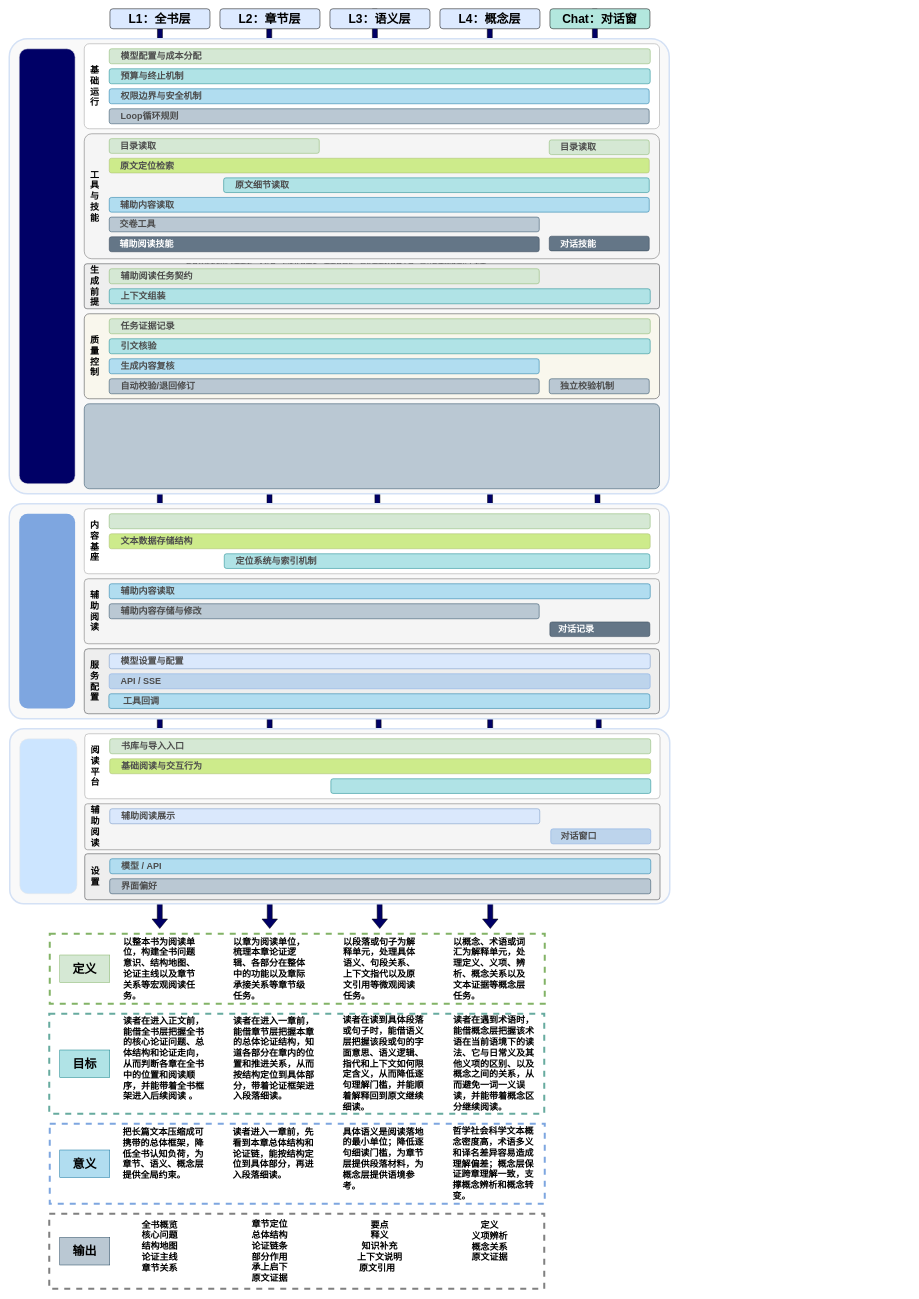
Some shapes in this 919 by 1299 pixel diagram are drawn without their labels. The shapes that lost their labels are listed below. From the top down, each one's centre as x and y in pixels, then its label:
the point at 47,266: Agent 智能体
the point at 372,446: 记忆机制
the point at 379,521: 导入与预处理
the point at 47,611: Server 服务器
the point at 490,785: 原文交互
the point at 48,816: Frontend 前端
